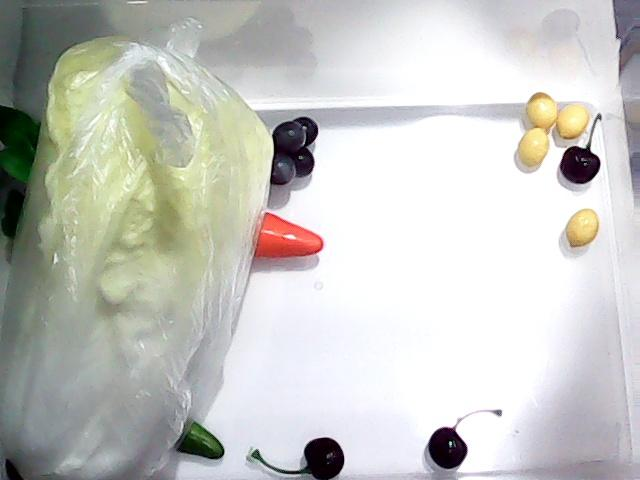carrot: (247, 212, 325, 260)
grape: (275, 122, 325, 190)
napa cabbage: (0, 36, 276, 479)
pepper: (167, 417, 227, 459)
